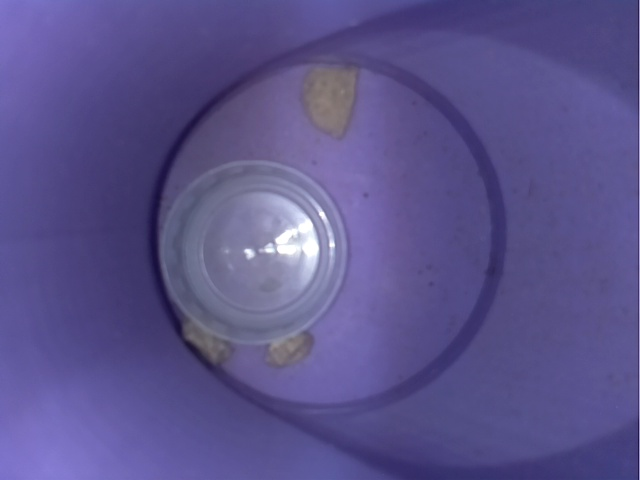bouchon: (152, 151, 352, 341)
caillou: (292, 57, 377, 141), (171, 322, 243, 361), (262, 328, 318, 368)
